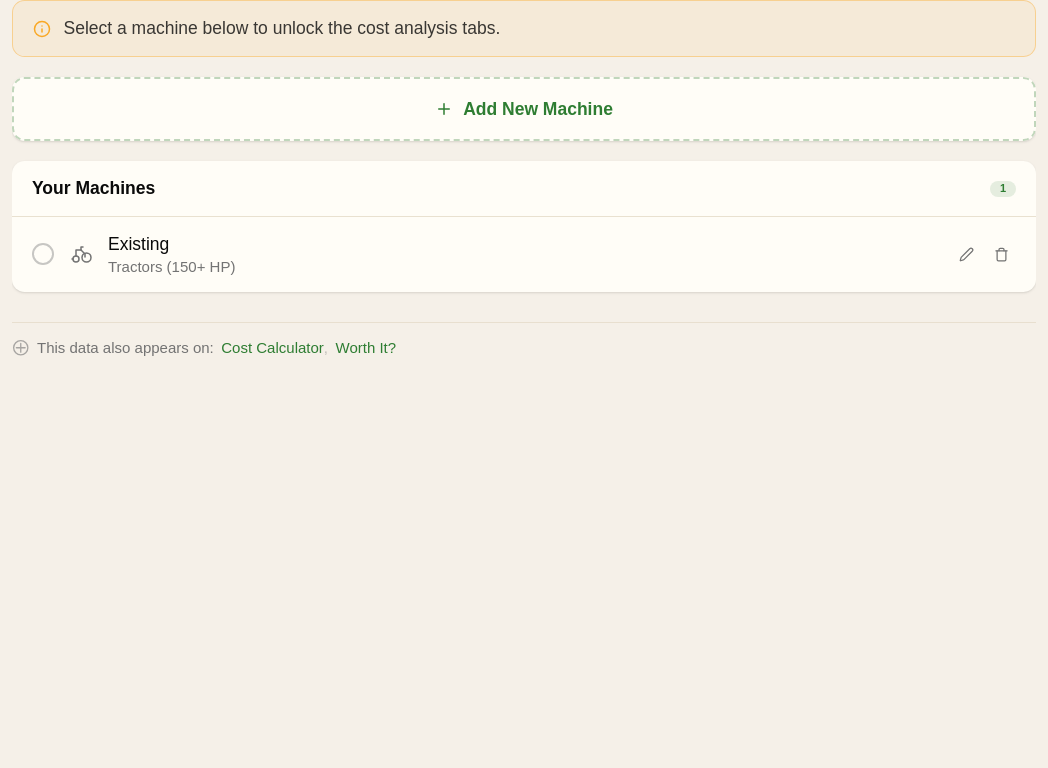
Test case: MachinesTab › add new form › clicking 'Add New Machine' opens the form
What coordinates should you click on to do the following:
click the button "Add New Machine"
I would click on:
 (524, 109)
Its box is x1=12 y1=77 x2=1036 y2=141.
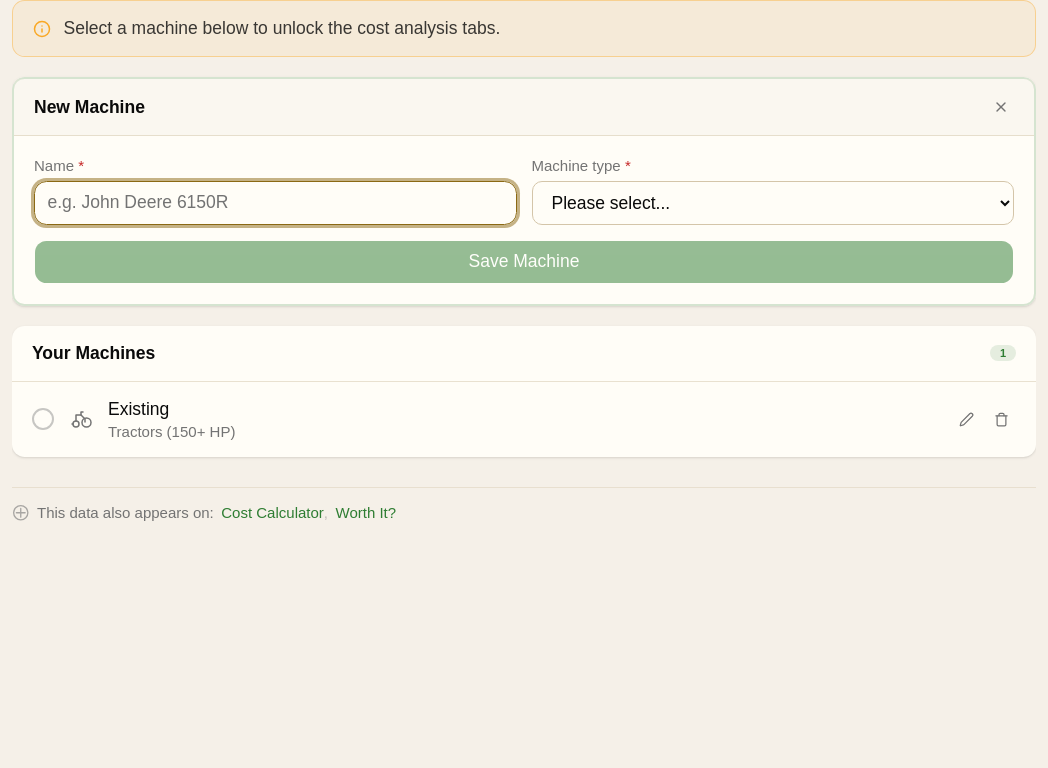
Check: the heading "New Machine" is shown, box x1=34 y1=94 x2=145 y2=120
Check: the field labelled "Name *" is shown, box x1=34 y1=181 x2=516 y2=225
